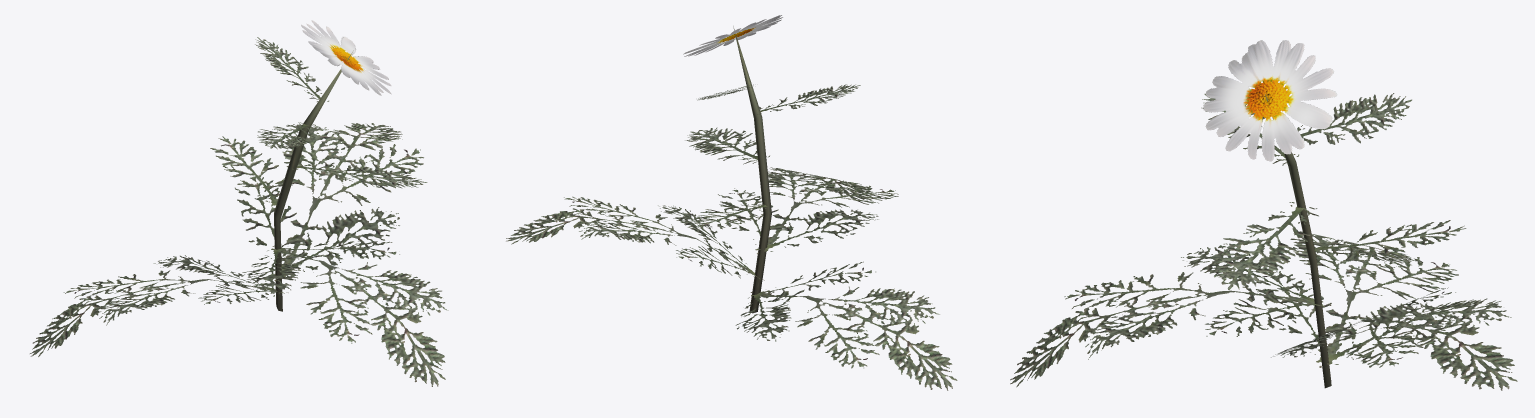
The model's file is Ramashka02.FBX.
3 views of the same model, side by side, from view 1: azimuth 30°, elevation 25°; view 2: azimuth 150°, elevation 25°; view 3: azimuth 270°, elevation 25° (orthographic). The views are drawn at different scales.
Visible parts, largest first — view 1: Ramashka02; view 2: Ramashka02; view 3: Ramashka02.
Part boxes in pixels (x1,y1,x2,y2): Ramashka02: (30, 20, 448, 386); Ramashka02: (506, 15, 957, 390); Ramashka02: (1010, 40, 1517, 390).
Size of the model in its own units: 8.86 by 6.23 by 7.73.
